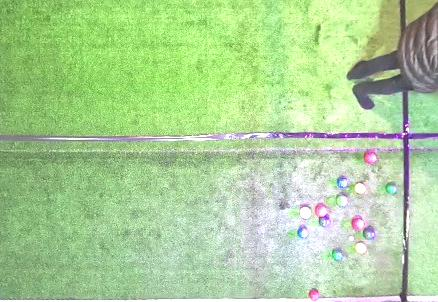blue: (337, 177, 347, 188), (298, 228, 308, 238)
green: (363, 227, 376, 239), (336, 195, 349, 207), (319, 215, 330, 227), (386, 183, 397, 195), (332, 250, 342, 261)
red: (351, 218, 364, 231), (364, 152, 377, 164), (315, 205, 327, 217), (300, 207, 311, 219), (309, 290, 319, 301)
vline: (401, 92, 437, 301), (398, 0, 437, 30)
white: (349, 236, 354, 241)
yellow: (355, 243, 367, 254), (355, 183, 366, 194)
